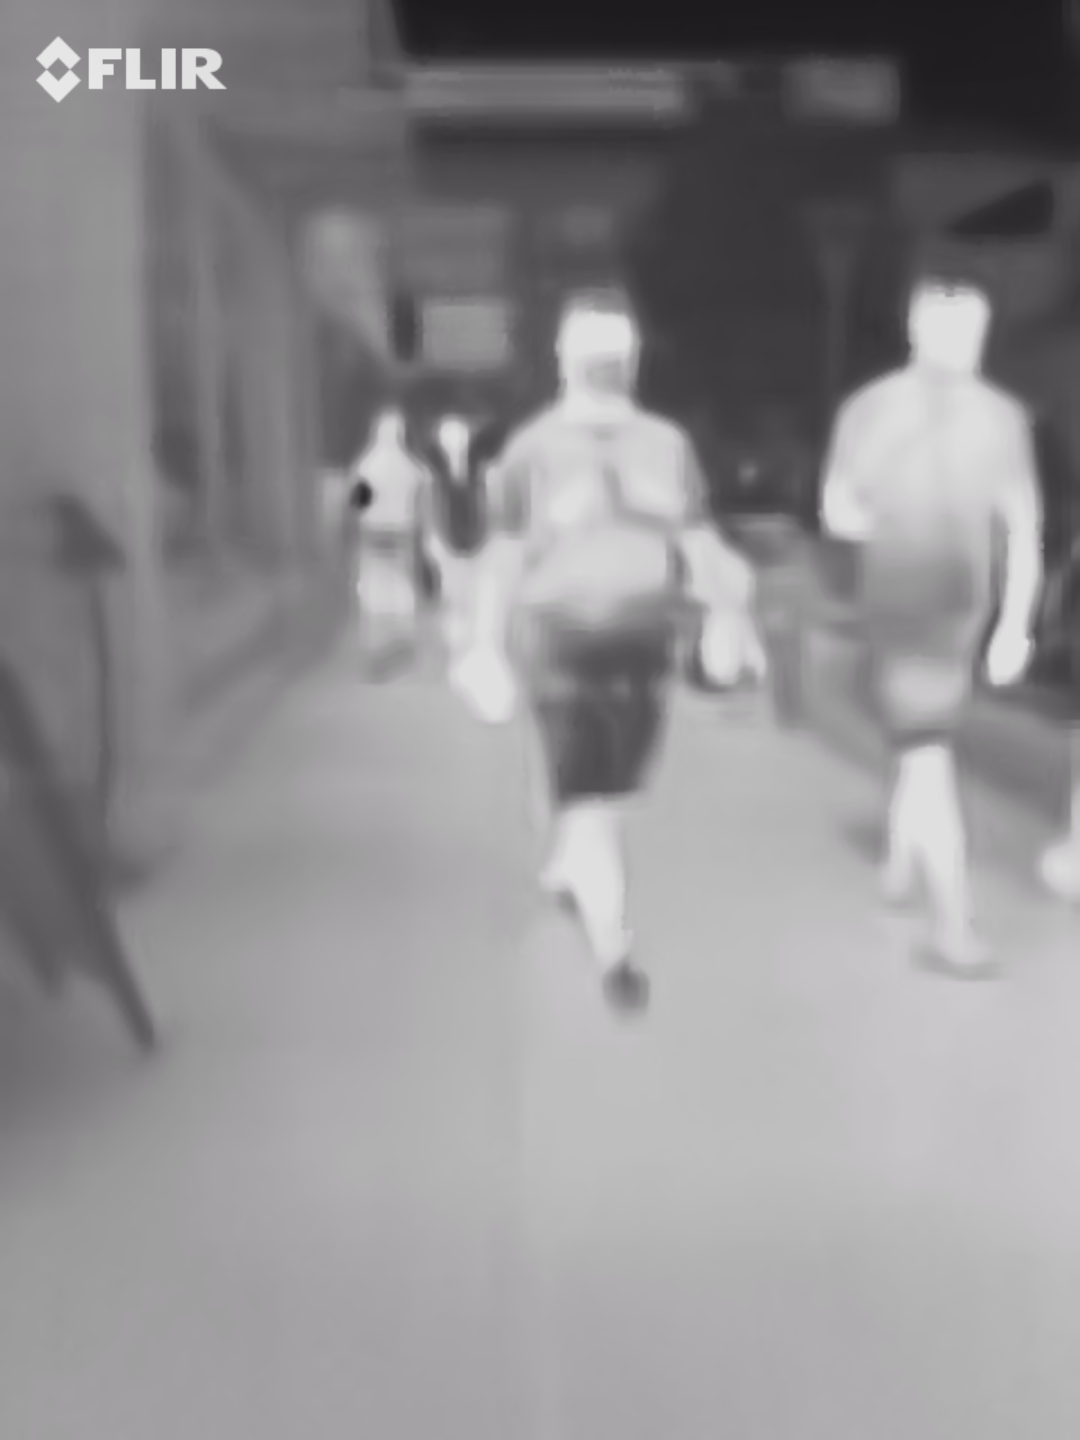head: (553, 277, 647, 415)
